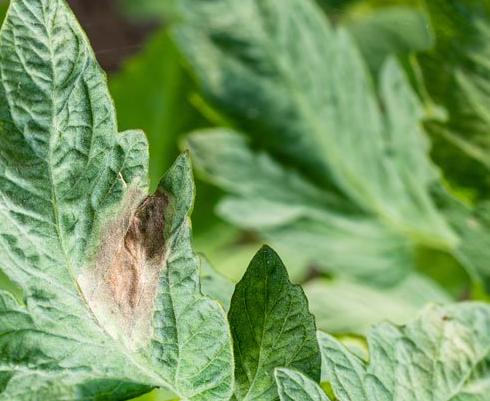Tomato leaf late blight: (0, 0, 240, 401), (274, 292, 490, 401)
